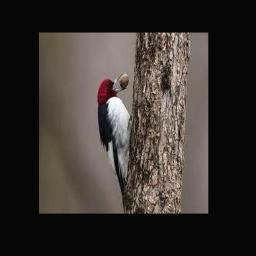Woodpecker: (97, 73, 132, 211)
